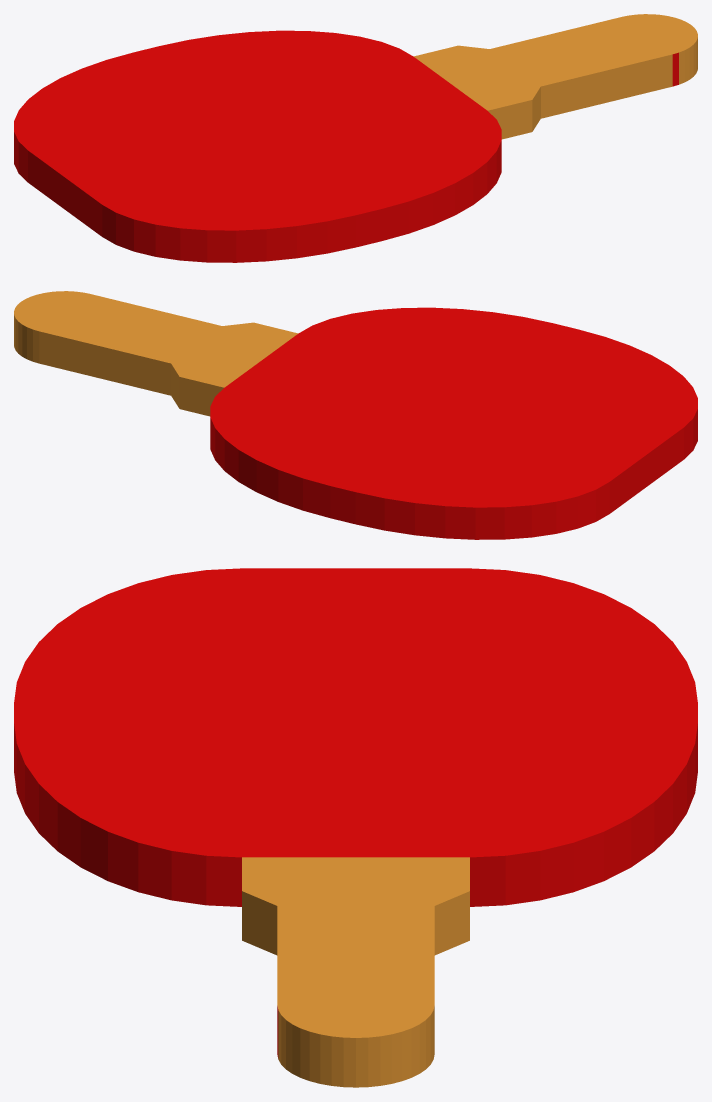
Rendered from Paletapingpong.fbx.
The picture shows the model from 3 angles, top to bottom: view 1: azimuth 30°, elevation 25°; view 2: azimuth 150°, elevation 25°; view 3: azimuth 270°, elevation 25°; orthographic projection. The views are drawn at different scales.
Visible parts, largest first — view 1: Cube; view 2: Cube; view 3: Cube.
Boxes of the visible parts, <box> form: Cube: <box>14,14,697,262</box>; Cube: <box>14,291,697,539</box>; Cube: <box>14,568,697,1087</box>.
Bounding box in the file's own units: 325 × 16 × 200.
